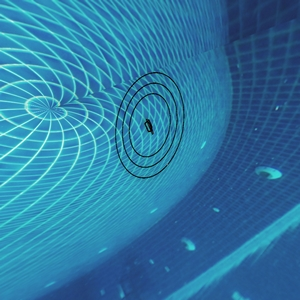submarine: (143, 119, 152, 128)
